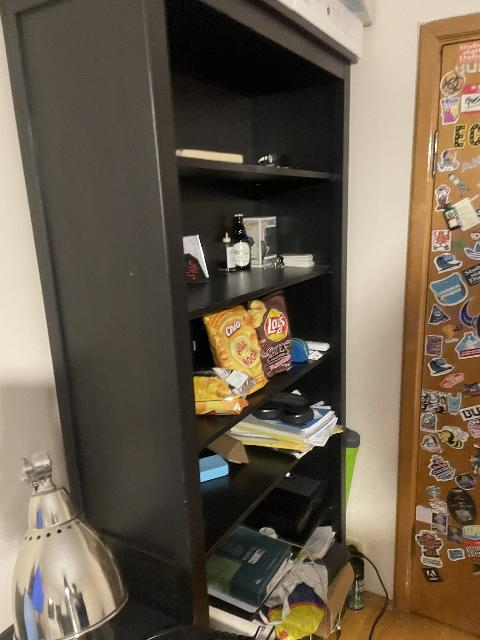Chio Cascaval 125g: (193, 368, 254, 418)
Chio Hula Hoops Cheese 70g: (203, 305, 268, 393)
Lays Beef Grilled Ribs 125g: (251, 293, 295, 377)
